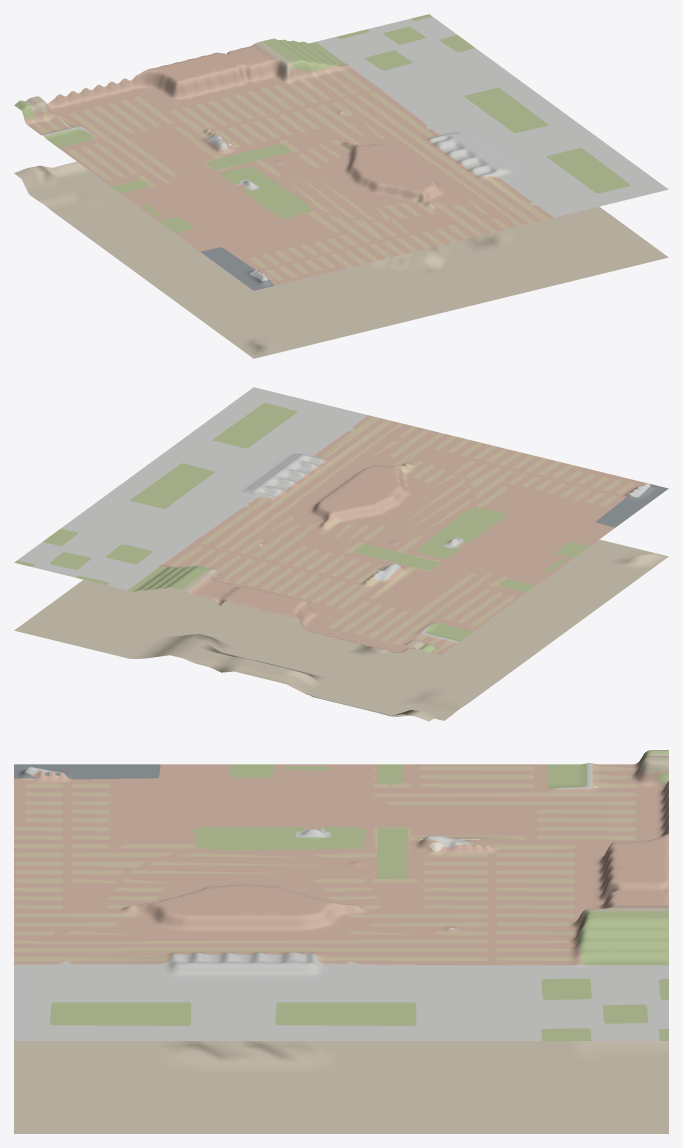
The picture shows the model from 3 angles, top to bottom: view 1: azimuth 30°, elevation 25°; view 2: azimuth 150°, elevation 25°; view 3: azimuth 270°, elevation 25°; orthographic projection. The views are drawn at different scales.
Parts seen in each view (by area): view 1: s_-6_-2__brick_paving, s_-6_-2__soil, s_-6_-2__stone_paving, s_-6_-2__timber_deck, s_-6_-2__grass, s_-6_-2__asphalt; view 2: s_-6_-2__brick_paving, s_-6_-2__soil, s_-6_-2__stone_paving, s_-6_-2__timber_deck, s_-6_-2__grass, s_-6_-2__asphalt; view 3: s_-6_-2__brick_paving, s_-6_-2__soil, s_-6_-2__stone_paving, s_-6_-2__timber_deck, s_-6_-2__grass, s_-6_-2__asphalt.
Part boxes in pixels (x1,y1,x2,y2): s_-6_-2__brick_paving: [24, 42, 553, 285]; s_-6_-2__soil: [14, 41, 668, 358]; s_-6_-2__stone_paving: [42, 16, 668, 280]; s_-6_-2__timber_deck: [31, 68, 548, 280]; s_-6_-2__grass: [14, 14, 630, 233]; s_-6_-2__asphalt: [200, 247, 274, 290]; s_-6_-2__brick_paving: [128, 415, 645, 654]; s_-6_-2__soil: [14, 539, 668, 721]; s_-6_-2__stone_paving: [17, 387, 650, 642]; s_-6_-2__timber_deck: [169, 416, 634, 652]; s_-6_-2__grass: [14, 403, 589, 653]; s_-6_-2__asphalt: [596, 484, 668, 527]; s_-6_-2__brick_paving: [14, 758, 668, 965]; s_-6_-2__soil: [14, 754, 668, 1133]; s_-6_-2__stone_paving: [14, 763, 668, 1040]; s_-6_-2__timber_deck: [14, 763, 637, 964]; s_-6_-2__grass: [50, 750, 668, 1040]; s_-6_-2__asphalt: [14, 764, 160, 779].
Bounding box in the file's own units: 128 × 24.01 × 128.
